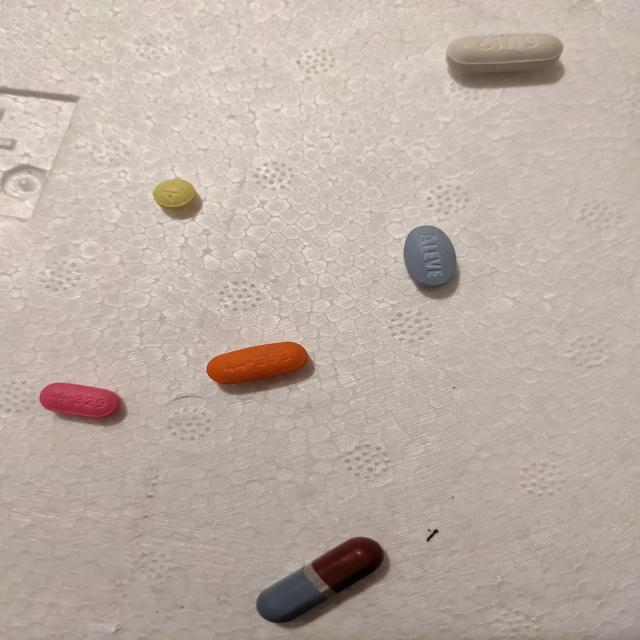non-organic waste: (255, 535, 385, 624), (444, 31, 565, 75), (206, 341, 309, 385), (402, 224, 458, 290), (38, 382, 122, 419), (152, 178, 198, 212)
